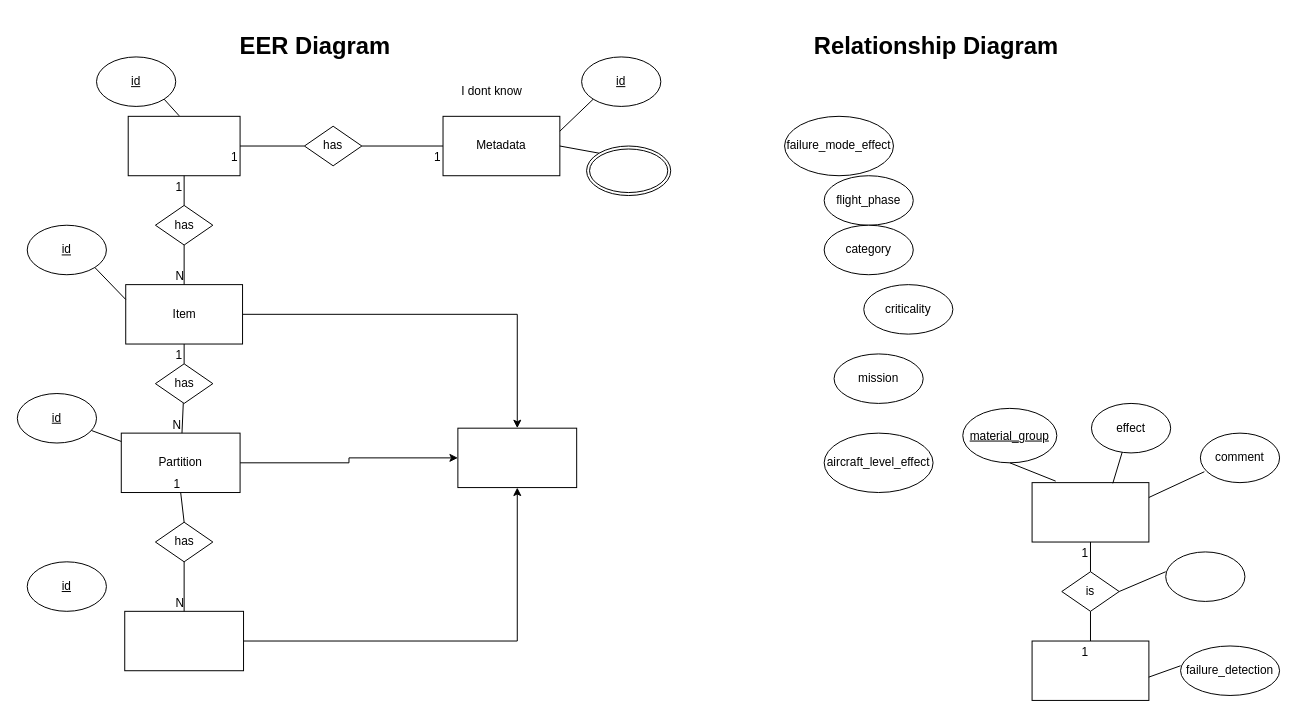
The diagram is 1297 pixels wide and 718 high, and some of its shapes have lost their labels. The centre of each missing label's shape, as x and y in pixels:
"Application" belongs at [184,640].
"Data?" belongs at [628,170].
"Falure Event" belongs at [517,457].
"Project" belongs at [183,145].
"Subsystem" belongs at [1090,512].
"variant" belongs at [1205,576].
"VariantSpecific" belongs at [1090,670].
